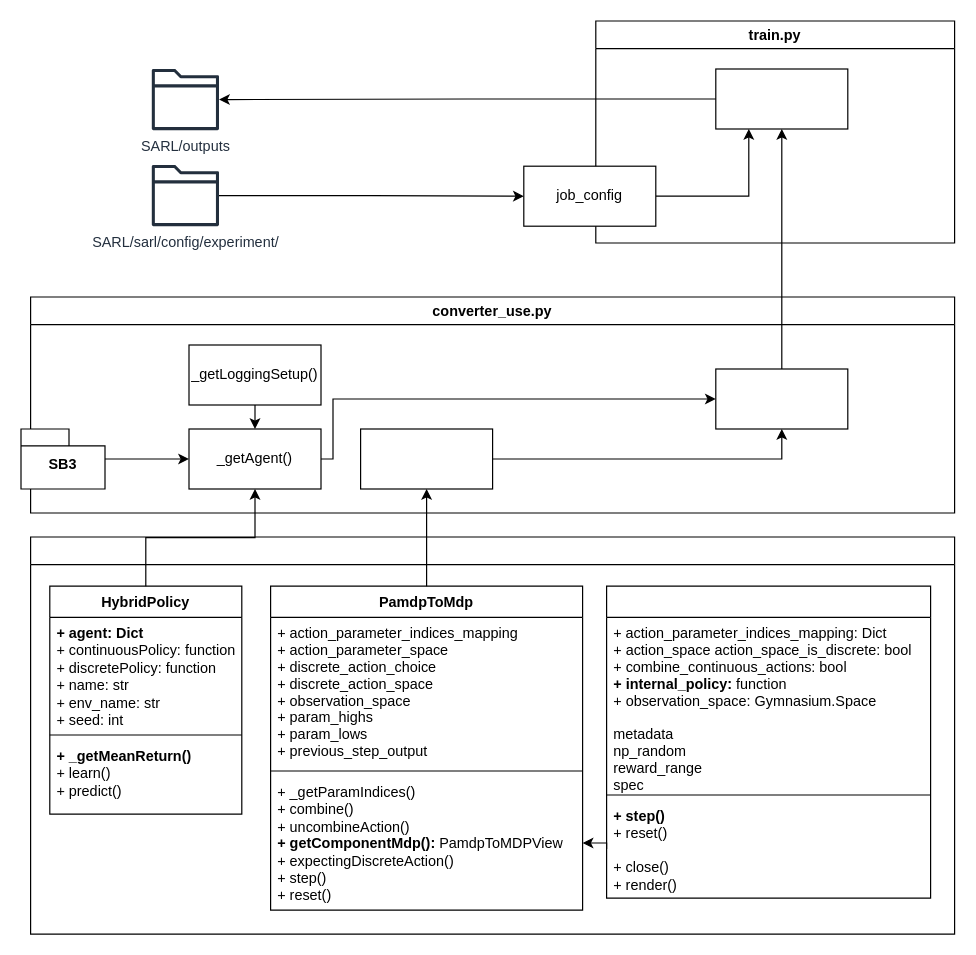
Some shapes in this 976 by 955 pixel diagram are drawn without their labels. The box of each missing label's shape, as (x1, y1, x2, y2) in pixels:
_getMDP(): (359, 428, 493, 489)
_runConverter(): (715, 368, 848, 429)
chosen_script: (715, 68, 848, 129)
converter.py: (29, 536, 955, 934)
PamdpToMdpView: (605, 585, 931, 898)
